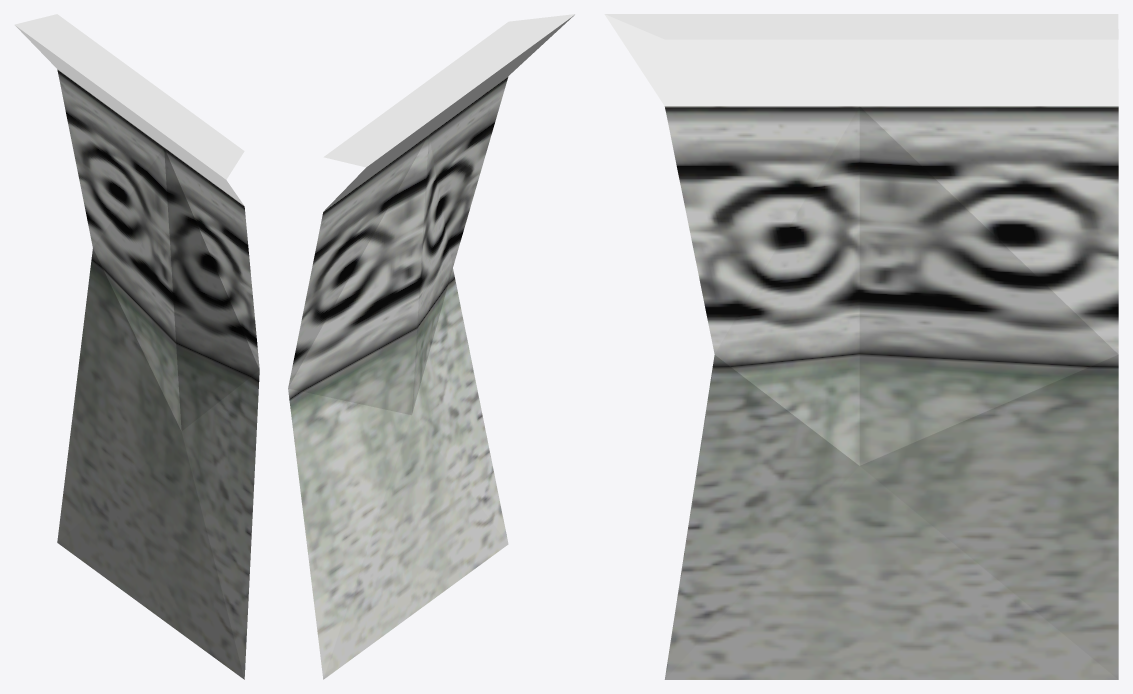
The model's file is W_A2r_x [Verziert]_712.glb.
3 views of the same model, side by side, from view 1: azimuth 30°, elevation 25°; view 2: azimuth 150°, elevation 25°; view 3: azimuth 270°, elevation 25° (orthographic). The views are drawn at different scales.
Parts seen in each view (by area): view 1: polySurfaceShape1210, polySurfaceShape1212; view 2: polySurfaceShape1210, polySurfaceShape1212; view 3: polySurfaceShape1210, polySurfaceShape1212.
Part boxes in pixels (x1,y1,x2,y2): polySurfaceShape1210: (57,69,259,679); polySurfaceShape1212: (14,14,244,205); polySurfaceShape1210: (288,76,508,679); polySurfaceShape1212: (323,14,575,210); polySurfaceShape1210: (664,106,1118,679); polySurfaceShape1212: (604,14,1118,106).
Bounding box in the file's own units: 0.0607 × 0.3891 × 0.2833.
Materials: 2 (1 with a texture image).
